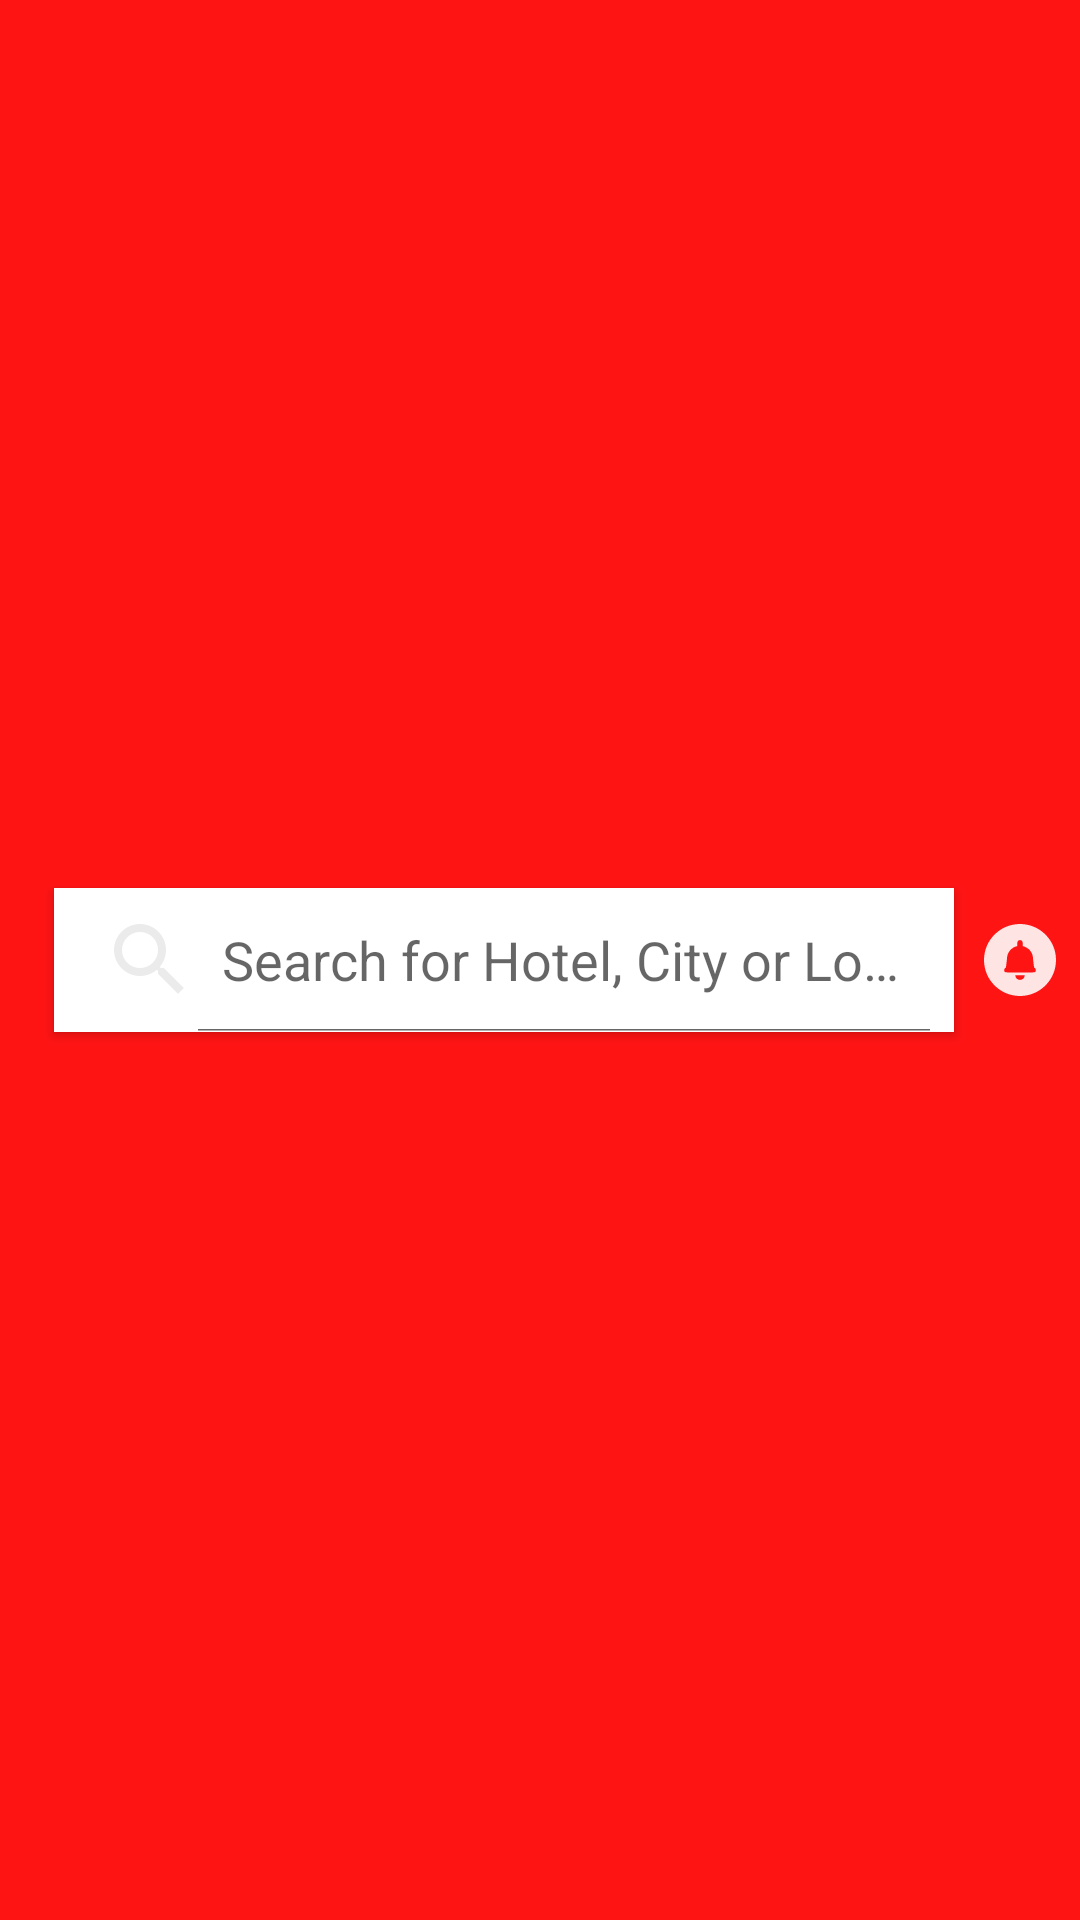

Point at icon controls on the screen. Image size 1080px×1920px, points as (x,y).
notification: (1020,960)
